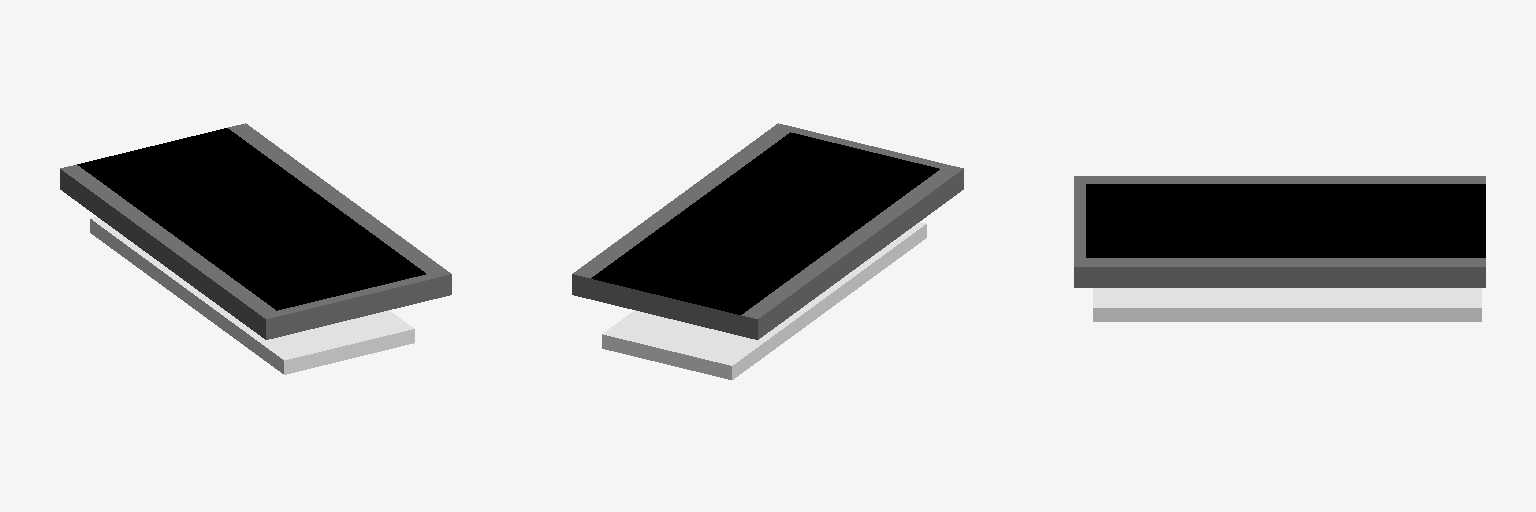
File: port.obj
3 views of the same model, side by side, from view 1: azimuth 30°, elevation 25°; view 2: azimuth 150°, elevation 25°; view 3: azimuth 270°, elevation 25° (orthographic).
Visible parts, largest first — view 1: polySurface1 polySurface3, polySurface2 polySurface1; view 2: polySurface1 polySurface3, polySurface2 polySurface1; view 3: polySurface1 polySurface3, polySurface2 polySurface1.
Boxes of the visible parts, x1,y1,x2,y2 form: polySurface1 polySurface3: [60, 123, 451, 339]; polySurface2 polySurface1: [90, 217, 414, 374]; polySurface1 polySurface3: [572, 123, 963, 339]; polySurface2 polySurface1: [602, 222, 926, 379]; polySurface1 polySurface3: [1074, 176, 1485, 287]; polySurface2 polySurface1: [1093, 288, 1481, 321].
Bounding box in the file's own units: 8.55 × 3.05 × 16.43.